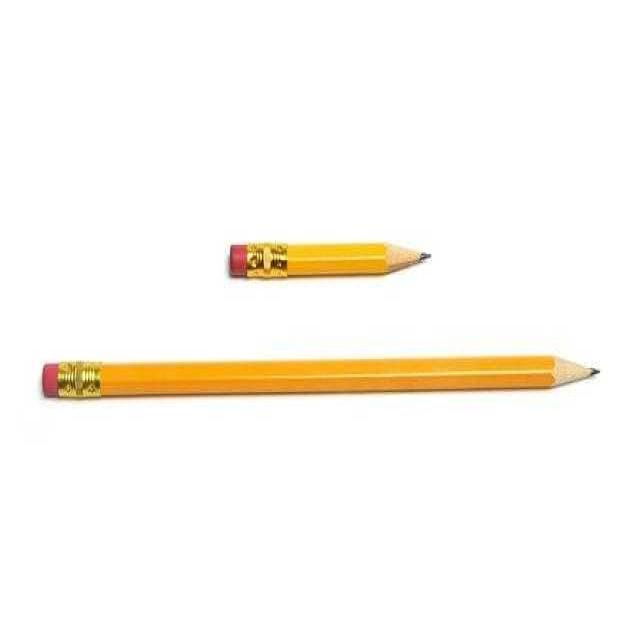pencil: (31, 345, 614, 416), (206, 227, 485, 298)
